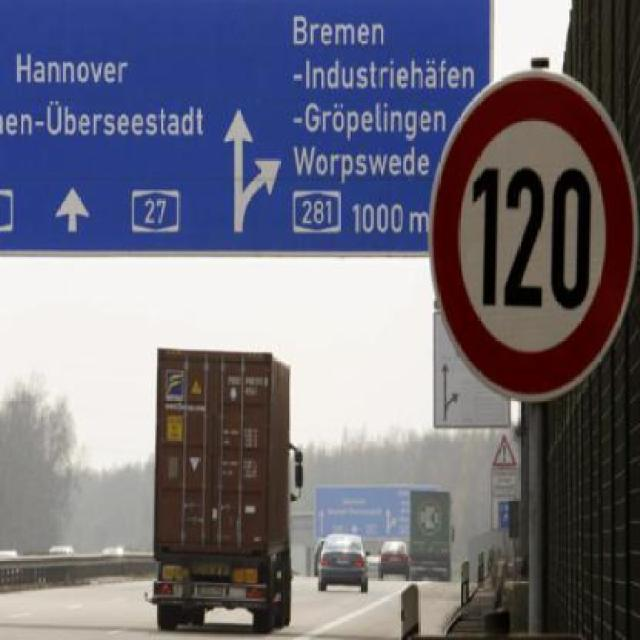forb_speed_over_120: (432, 74, 636, 400)
